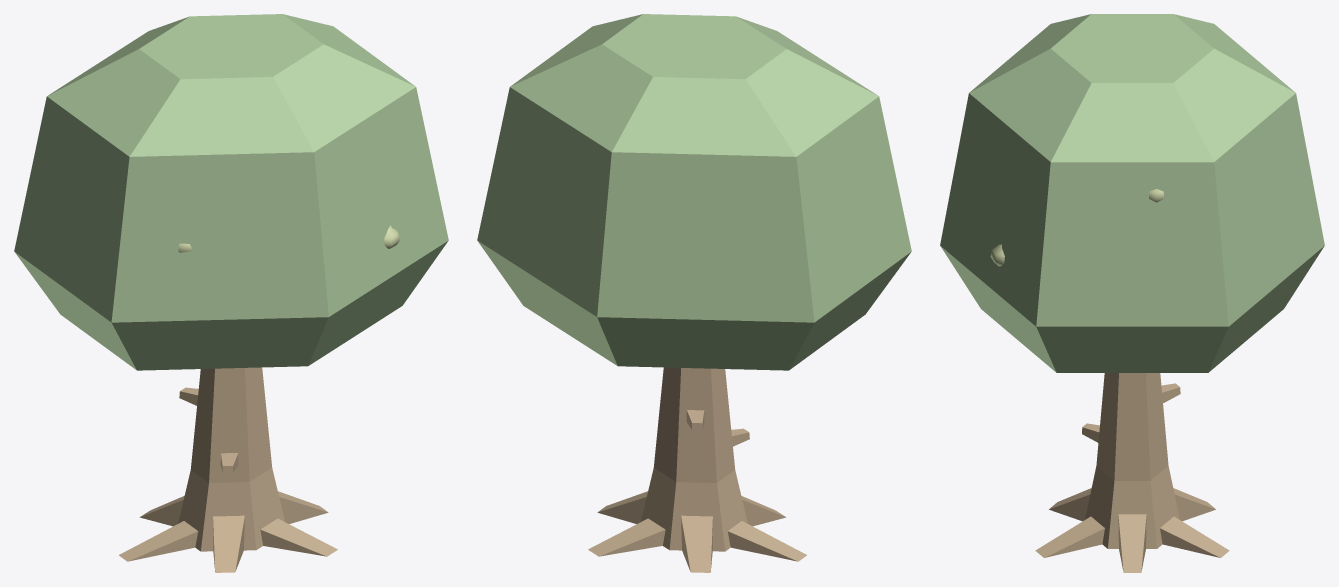
The model's file is crafted-pear-tree-growing.glb.
3 renders of one model, left to right at view 1: azimuth 30°, elevation 25°; view 2: azimuth 150°, elevation 25°; view 3: azimuth 270°, elevation 25°, orthographic.
Parts seen in each view (by area): view 1: tree-0, tree-1; view 2: tree-0, tree-1; view 3: tree-0, tree-1.
Part boxes in pixels (x1,y1,x2,y2): tree-0: (14, 14, 448, 370); tree-1: (119, 367, 337, 572); tree-0: (477, 14, 911, 370); tree-1: (588, 367, 806, 572); tree-0: (940, 14, 1324, 372); tree-1: (1035, 373, 1229, 572).
Bounding box in the file's own units: 1.6 × 2.2 × 1.6.
